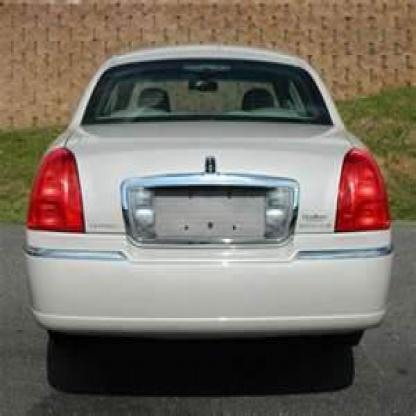car: (22, 43, 402, 370)
